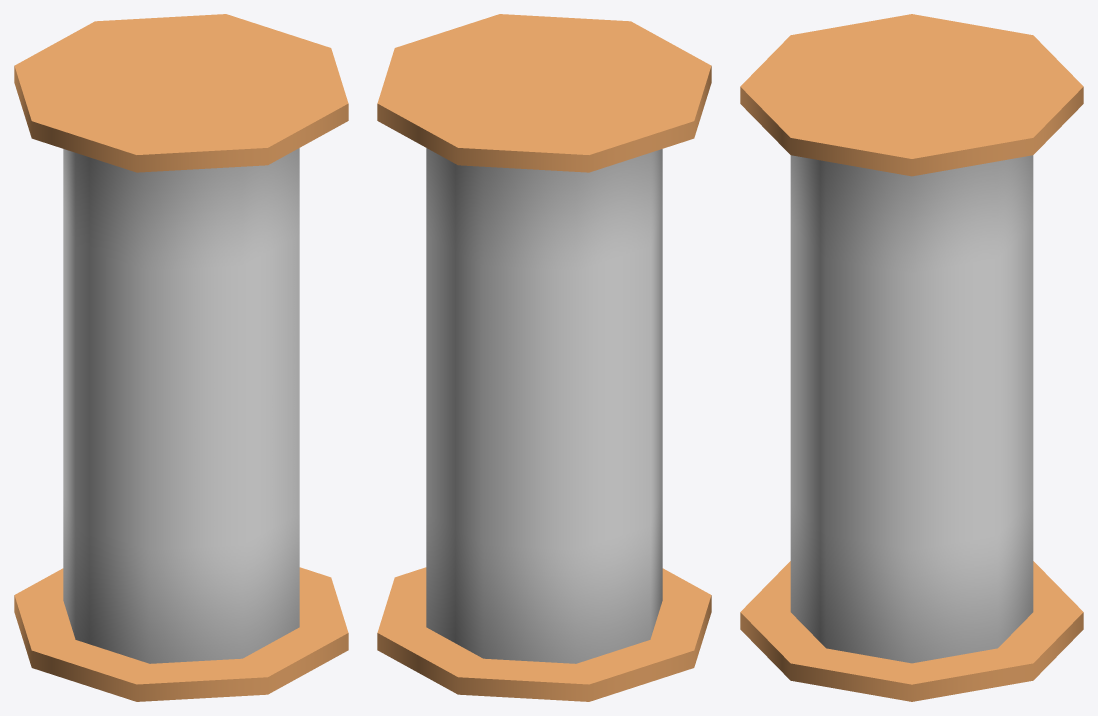
File: spool-8.fbx
The picture shows the model from 3 angles, left to right: view 1: azimuth 30°, elevation 25°; view 2: azimuth 150°, elevation 25°; view 3: azimuth 270°, elevation 25°; orthographic projection.
Visible parts, largest first — view 1: spool-8; view 2: spool-8; view 3: spool-8.
Boxes of the visible parts, bbox=[...] form: spool-8: bbox=[14, 14, 348, 701]; spool-8: bbox=[377, 14, 711, 701]; spool-8: bbox=[740, 14, 1083, 701].
Size of the model in its own units: 3.02 by 5.26 by 3.02.
2 materials, 2 textured.
